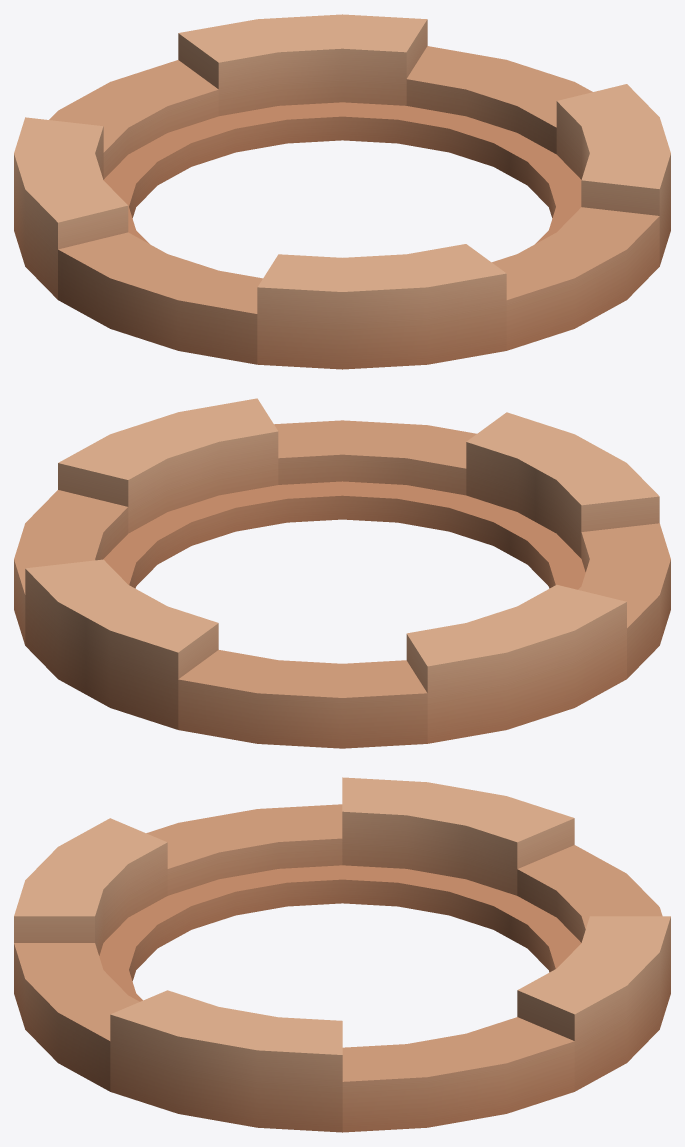
File: tower-top.obj
3 views of the same model, one above another, from view 1: azimuth 30°, elevation 25°; view 2: azimuth 150°, elevation 25°; view 3: azimuth 270°, elevation 25° (orthographic).
Visible parts, largest first — view 1: tower-top; view 2: tower-top; view 3: tower-top.
Boxes of the visible parts, bbox=[...] form: tower-top: bbox=[14, 14, 670, 369]; tower-top: bbox=[14, 398, 670, 748]; tower-top: bbox=[14, 777, 670, 1132].
Bounding box in the file's own units: 1 × 0.13 × 1.
1 material, 1 textured.
